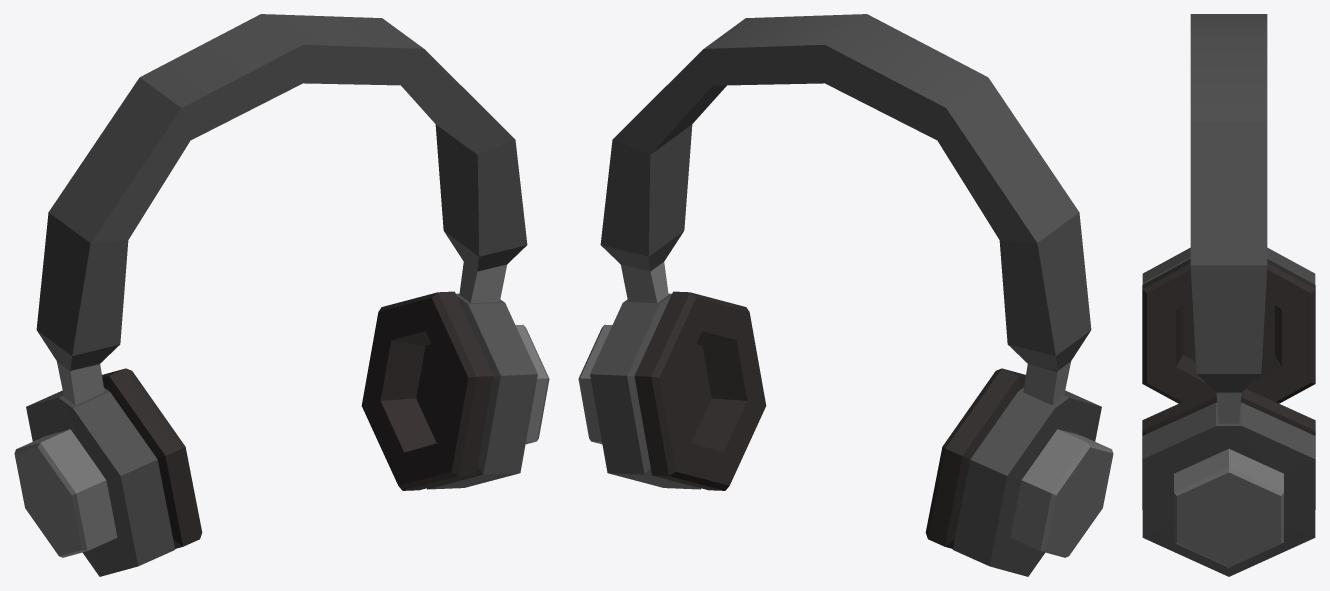
The model's file is Headphone.fbx.
The picture shows the model from 3 angles, left to right: view 1: azimuth 30°, elevation 25°; view 2: azimuth 150°, elevation 25°; view 3: azimuth 270°, elevation 25°; orthographic projection. The views are drawn at different scales.
Visible parts, largest first — view 1: Headphone:pCylinder1; view 2: Headphone:pCylinder1; view 3: Headphone:pCylinder1.
Part boxes in pixels (x1=…): Headphone:pCylinder1: x1=14, y1=14, x2=549, y2=576; Headphone:pCylinder1: x1=578, y1=14, x2=1113, y2=576; Headphone:pCylinder1: x1=1142, y1=14, x2=1315, y2=576.
Bounding box in the file's own units: 27.94 × 27.5 × 9.42.
